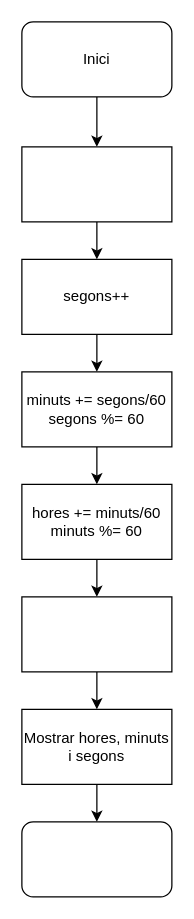
The diagram is 194 pixels wide and 919 high, and some of its shapes have lost their labels. Here are the shapes that lost their labels. From the top down, the centre of each, then its label:
[96,184]: Llegir hores, minuts i segons
[96,634]: hores %= 24
[96,859]: Fi
